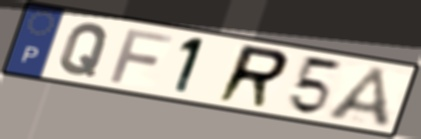1: (171, 35, 208, 98)
5: (287, 52, 344, 117)
A: (323, 64, 394, 131)
F: (106, 26, 177, 85)
Q: (56, 22, 112, 79)
R: (213, 42, 293, 111)
